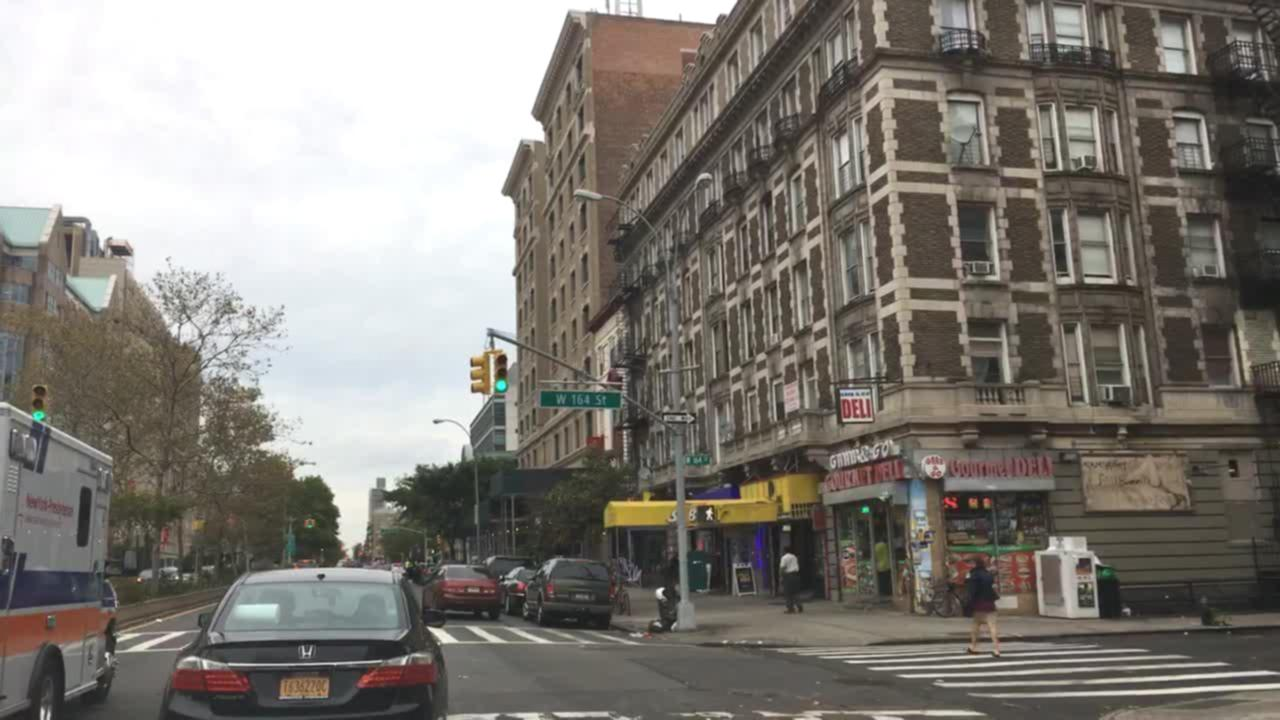Honda: (290, 639, 325, 664)
